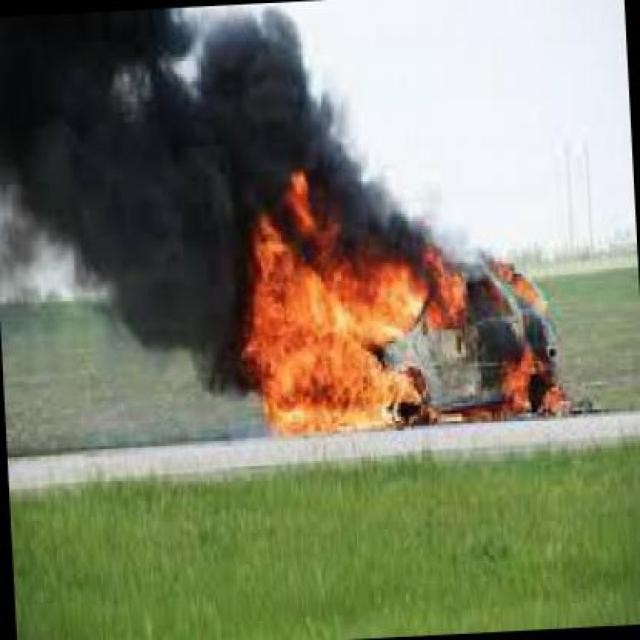fire: (229, 156, 569, 438)
